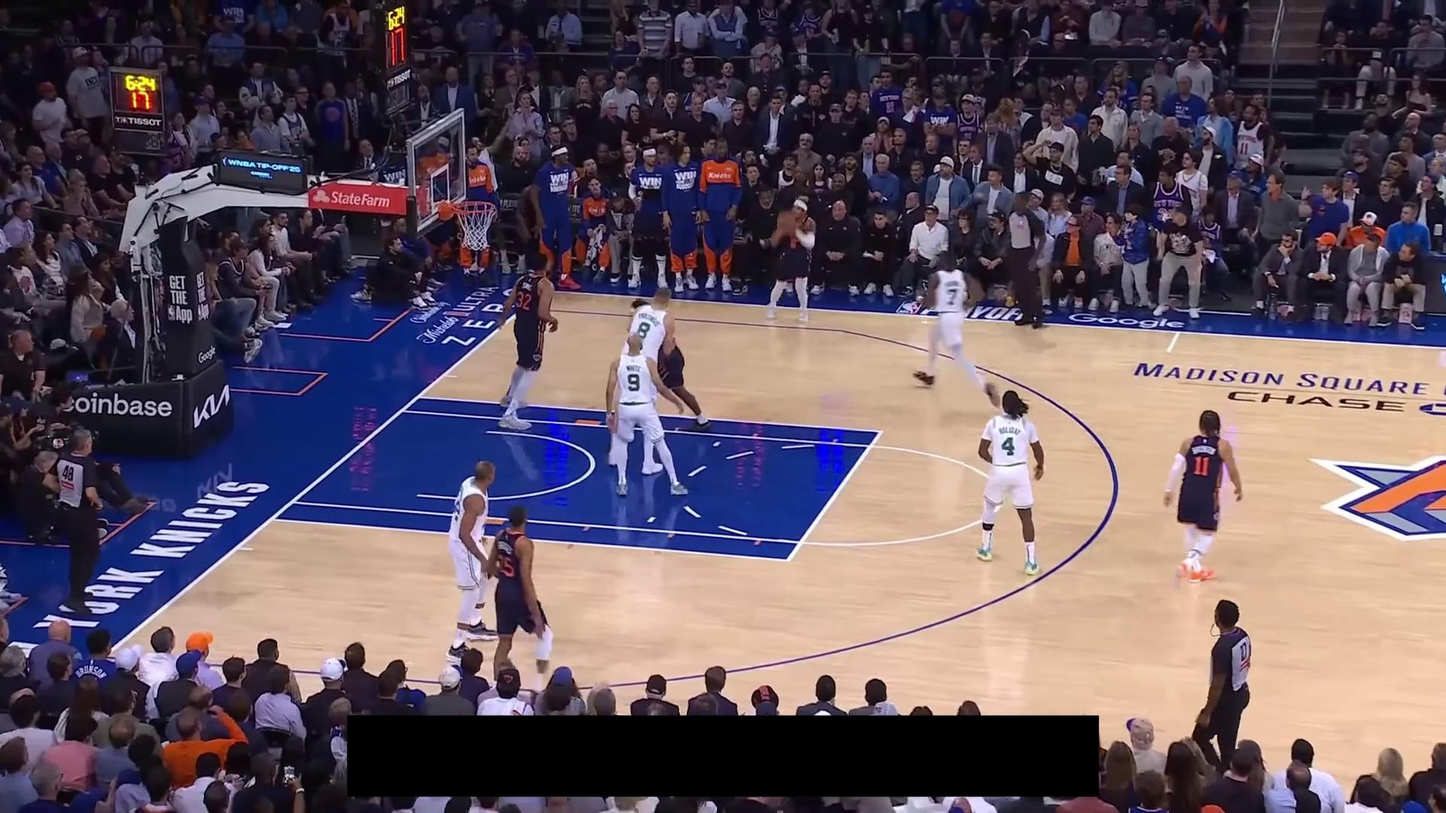ball: (775, 212, 797, 234)
number: (497, 552, 515, 578), (1193, 455, 1211, 477), (517, 291, 532, 312), (1002, 436, 1016, 457), (637, 321, 651, 339), (946, 287, 959, 306), (627, 373, 640, 391)
player: (911, 248, 1004, 419), (481, 503, 558, 696), (1163, 408, 1244, 587), (605, 332, 689, 496), (975, 389, 1045, 577), (608, 287, 677, 475), (626, 298, 713, 434), (444, 458, 500, 669), (496, 250, 560, 431)
player-in-possession: (764, 197, 816, 324)
referee: (47, 427, 105, 617), (1190, 599, 1253, 772), (995, 190, 1049, 331)
rim: (452, 199, 497, 215)
